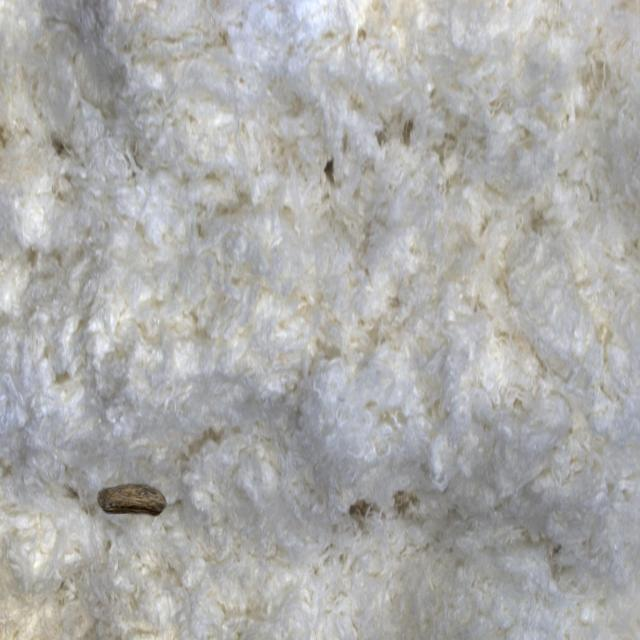dust: (69, 427, 190, 586)
